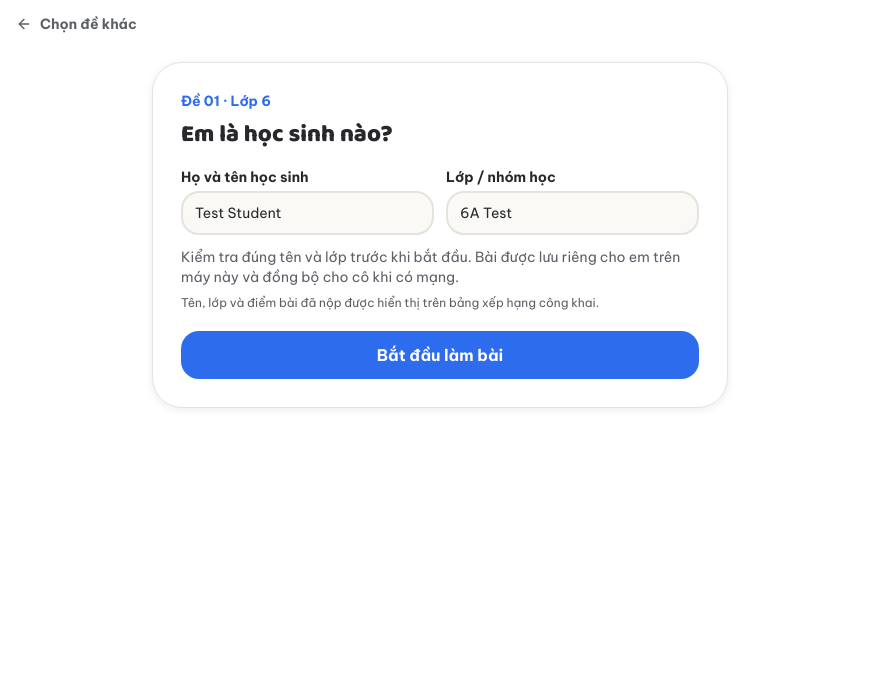
exam modes › compacts printed rewrite blanks while keeping grading, input labels and saved answers
The width and height of the screenshot is (881, 693).
Click the button "Bắt đầu làm bài": x=440, y=355 [181, 331, 699, 379]
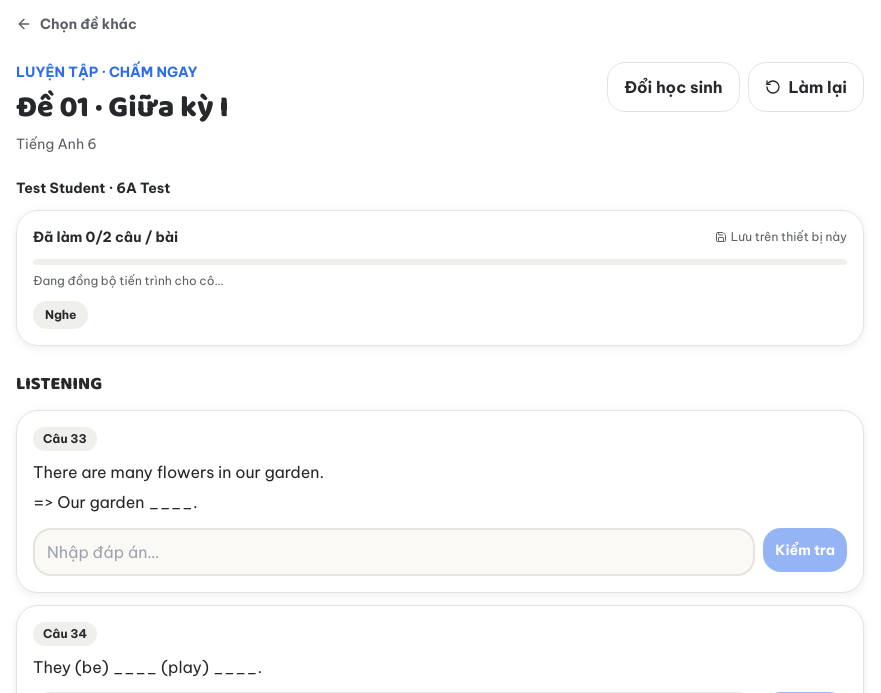
Expected: the text "=> Our garden ____." is shown, [33, 492, 198, 512]
In the field named "Câu trả lời của em": x=394, y=552 [33, 528, 755, 576], type "has many flowers"
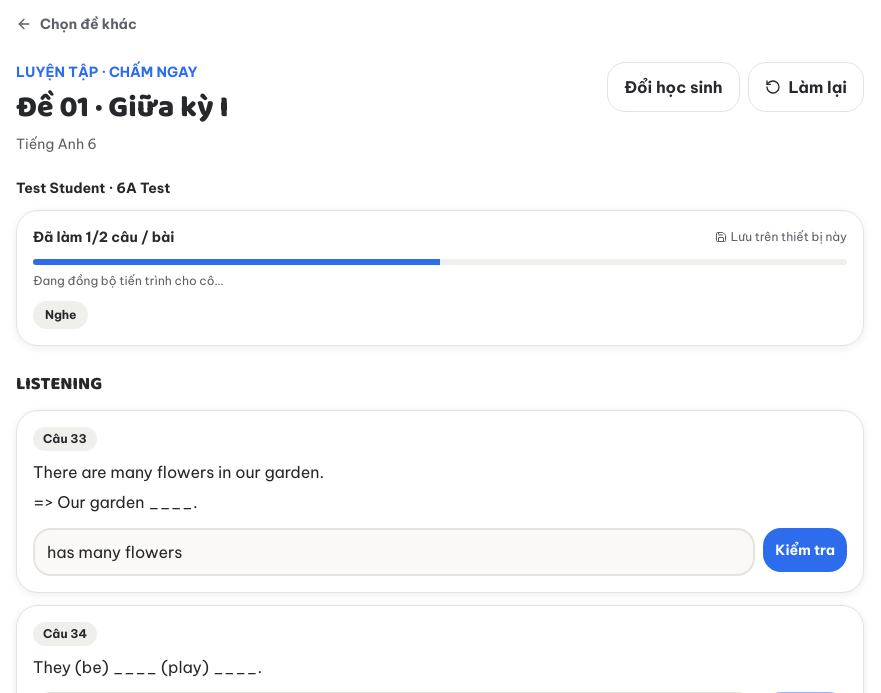
Click the button with aria-label "Kiểm tra câu này": x=805, y=550 [763, 528, 847, 572]
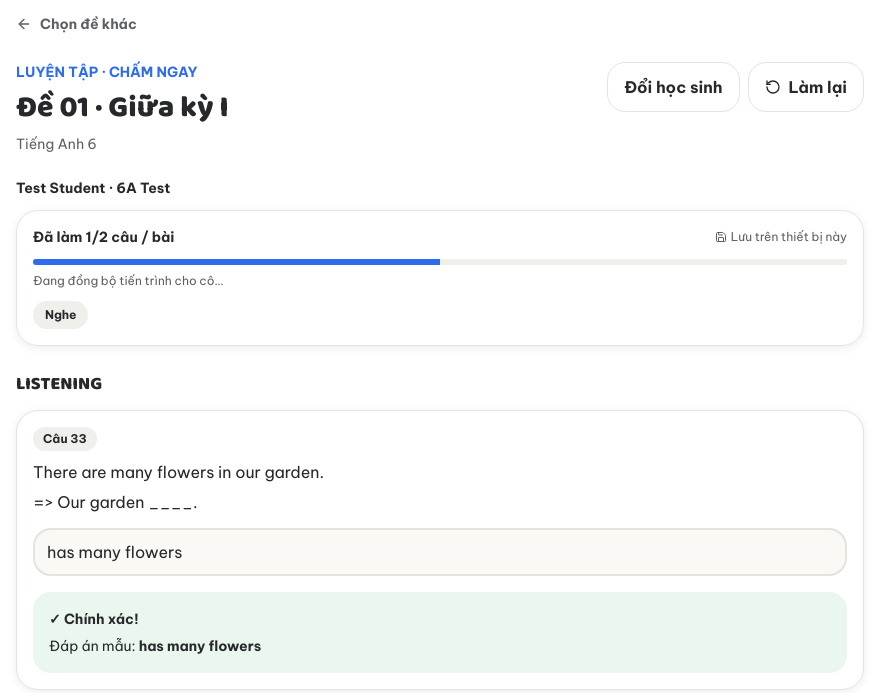
Expected: the text "✓ Chính xác!" is shown, [49, 610, 139, 628]
